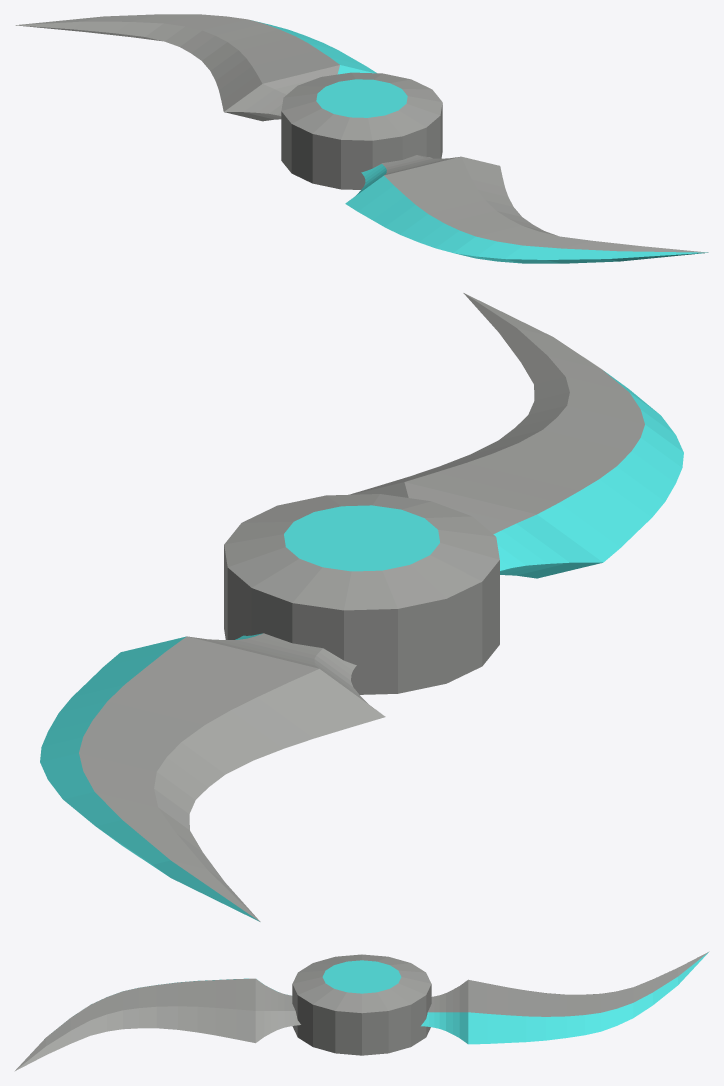
The model's file is Beyblade_Basic_Blade_Ice.fbx.
3 views of the same model, one above another, from view 1: azimuth 30°, elevation 25°; view 2: azimuth 150°, elevation 25°; view 3: azimuth 270°, elevation 25° (orthographic). The views are drawn at different scales.
Visible parts, largest first — view 1: Circle.001; view 2: Circle.001; view 3: Circle.001.
Boxes of the visible parts, x1=… form: Circle.001: x1=15, y1=14, x2=708, y2=263; Circle.001: x1=40, y1=293, x2=683, y2=921; Circle.001: x1=14, y1=951, x2=709, y2=1071.
Size of the model in its own units: 162 by 35.77 by 394.
1 material, 1 textured.
